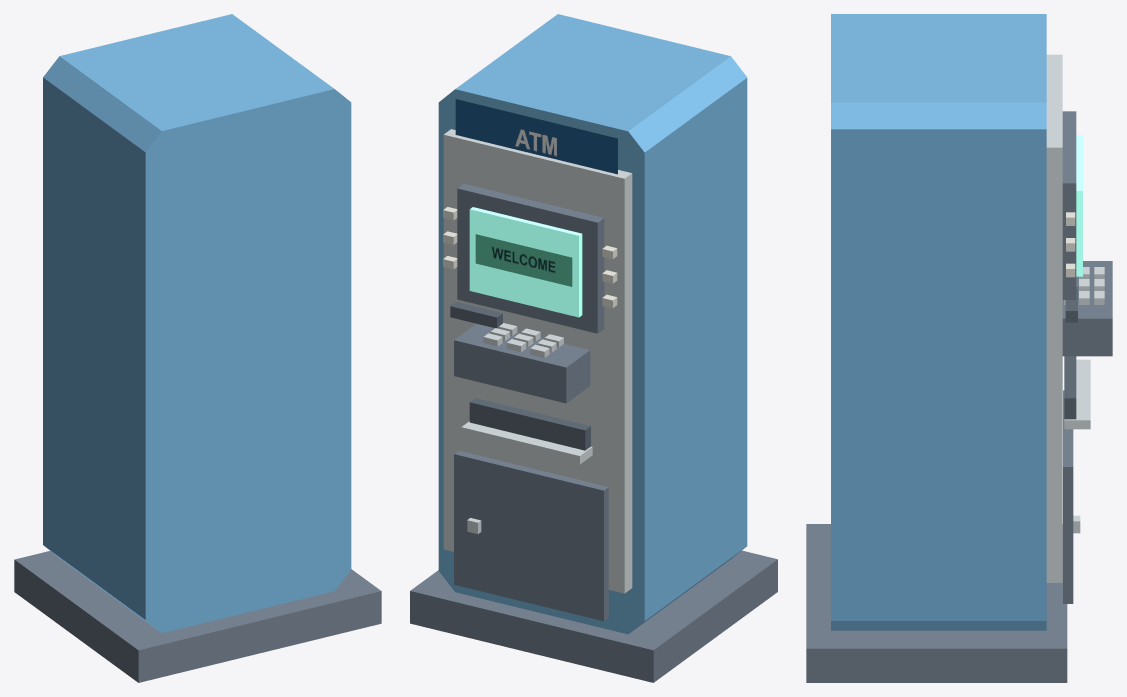
Rendered from atm.glb.
3 views of the same model, side by side, from view 1: azimuth 30°, elevation 25°; view 2: azimuth 150°, elevation 25°; view 3: azimuth 270°, elevation 25° (orthographic). The views are drawn at different scales.
Visible parts, largest first — view 1: Cabinet, Plinth; view 2: Cabinet, Front_Fascia, Service_Door, Plinth, Screen_Bezel, Display, Keypad_Deck, ATM_Header, Cash_Slot, ATM_Display_Text, Cash_Lip, Card_Slot; view 3: Cabinet, Plinth, Front_Fascia, Keypad_Deck, Screen_Bezel, Service_Door, Cash_Lip, Display, Cash_Slot.
Boxes of the visible parts, x1,y1,x2,y2 form: Cabinet: [43, 14, 351, 632]; Plinth: [14, 551, 381, 682]; Cabinet: [438, 14, 747, 634]; Front_Fascia: [443, 129, 632, 593]; Service_Door: [454, 450, 608, 621]; Plinth: [410, 550, 777, 682]; Screen_Bezel: [457, 184, 604, 333]; Display: [469, 207, 582, 317]; Keypad_Deck: [454, 323, 590, 403]; ATM_Header: [455, 99, 617, 174]; Cash_Slot: [469, 398, 590, 450]; ATM_Display_Text: [475, 234, 572, 286]; Cash_Lip: [461, 421, 592, 464]; Card_Slot: [450, 302, 502, 328]; Cabinet: [831, 14, 1046, 630]; Plinth: [806, 524, 1067, 682]; Front_Fascia: [1046, 54, 1062, 582]; Keypad_Deck: [1062, 261, 1112, 356]; Screen_Bezel: [1062, 111, 1076, 299]; Service_Door: [1063, 390, 1073, 603]; Cash_Lip: [1064, 359, 1090, 429]; Display: [1076, 135, 1082, 276]; Cash_Slot: [1064, 356, 1076, 419].
Size of the model in its own units: 0.78 by 1.64 by 0.81.
8 materials, 2 textured.
